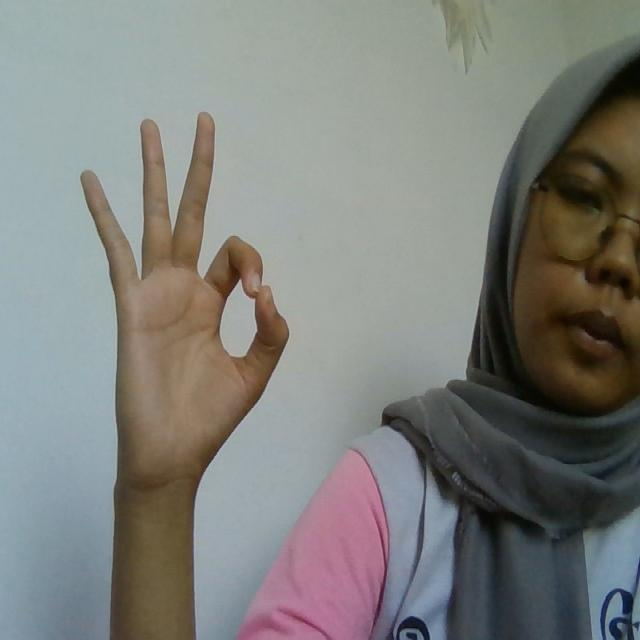F: (80, 109, 291, 479)
